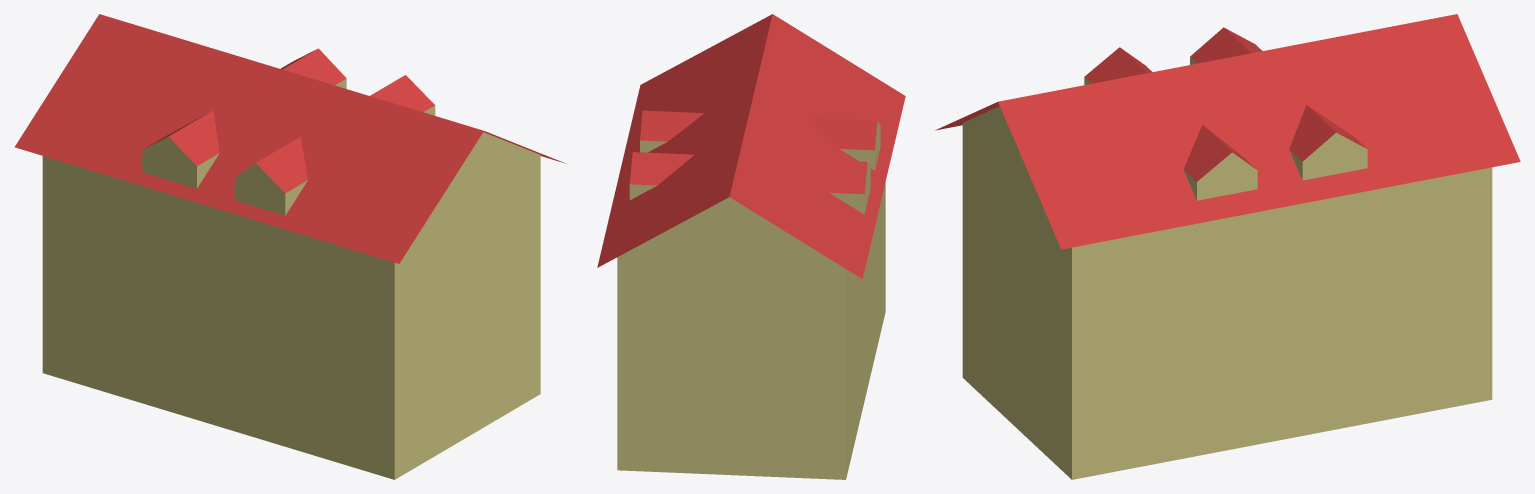
The picture shows the model from 3 angles, left to right: view 1: azimuth 30°, elevation 25°; view 2: azimuth 150°, elevation 25°; view 3: azimuth 270°, elevation 25°; orthographic projection. The views are drawn at different scales.
Bounding box in the file's own units: 17.14 × 20.56 × 12.8.
